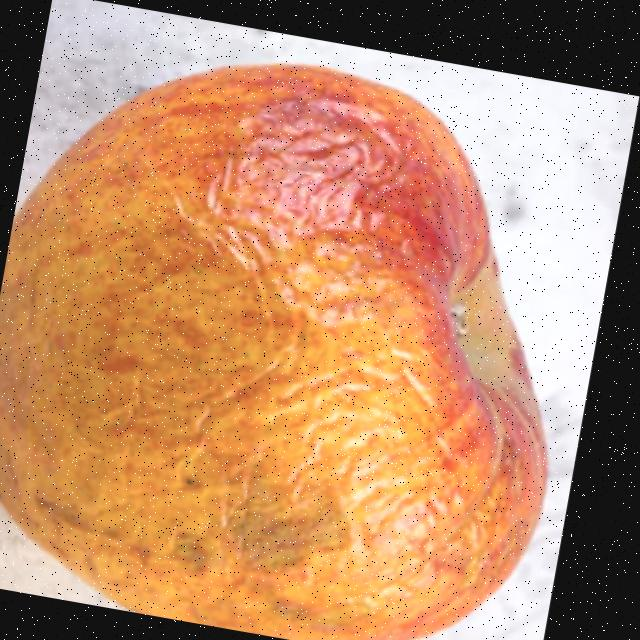overripe: (0, 17, 615, 640)
